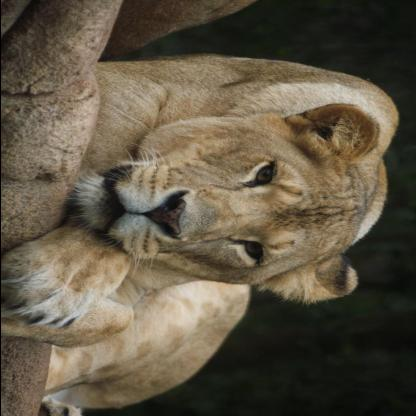lion: (66, 93, 392, 306)
